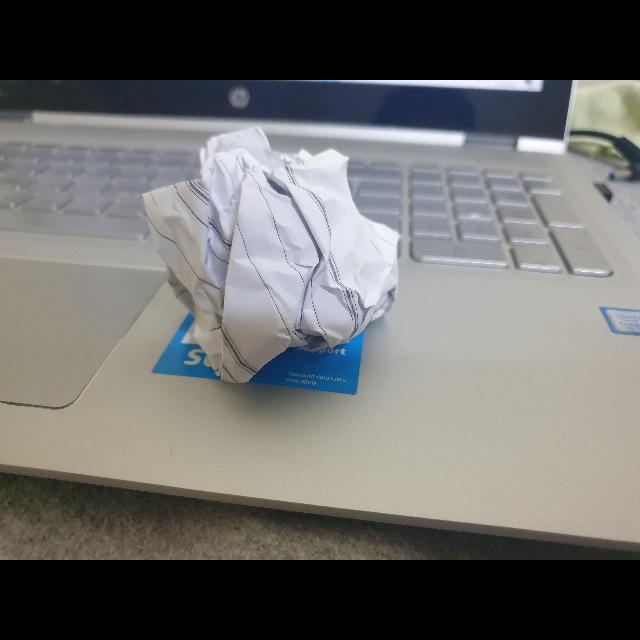scrap_paper: (136, 117, 412, 396)
